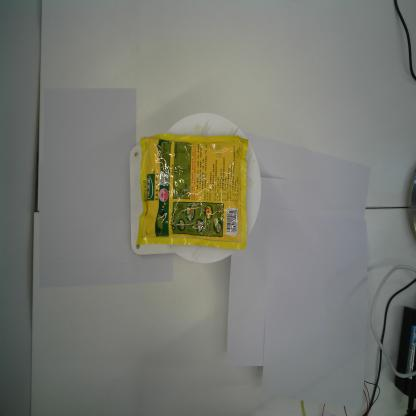Seasoner: (136, 134, 248, 251)
